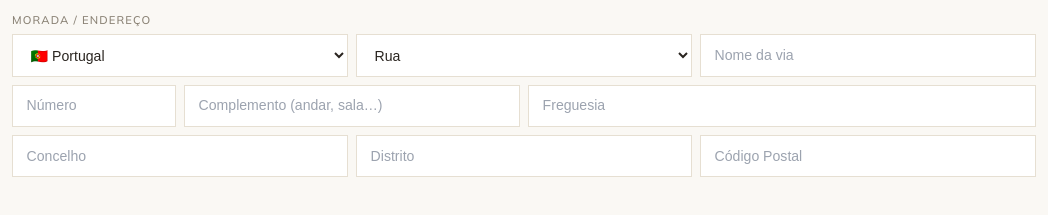
Test: AddressEditor › a linha composta acompanha o número
This screenshot has width=1048, height=215.
Type "das Flores" into the field with placeholder "Nome da via" at point(868, 56), box left=700, top=34, right=1036, bottom=77
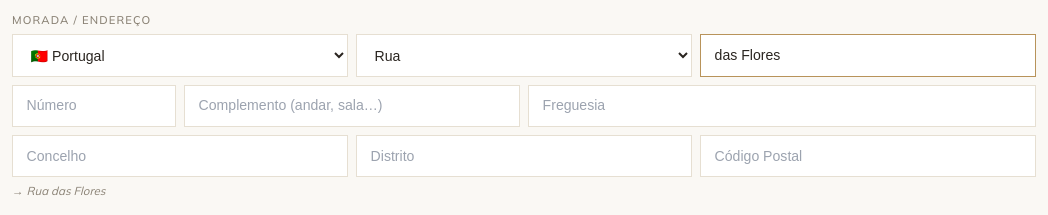
Type "12" into the field with placeholder "Número" at point(94, 106), box left=12, top=85, right=176, bottom=127
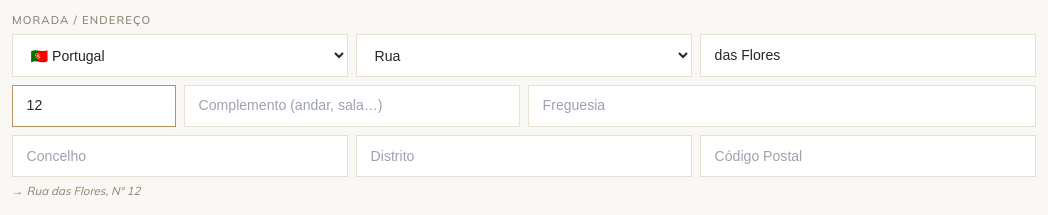
Expected: the text "→ Rua das Flores, Nº 12" is shown, left=12, top=183, right=140, bottom=198
